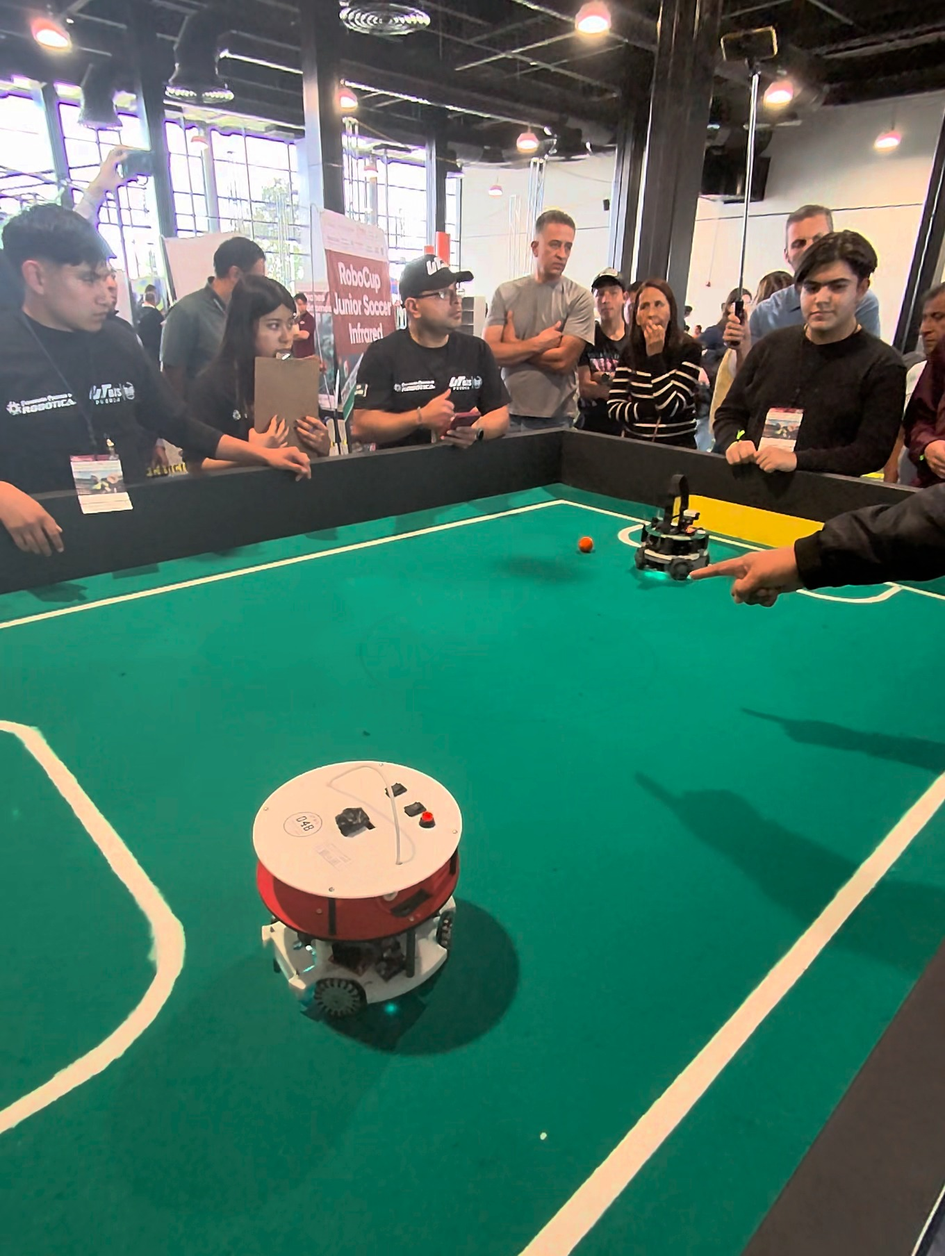Robot: (246, 731, 466, 1048), (636, 474, 712, 593)
pelota: (578, 537, 592, 554)
